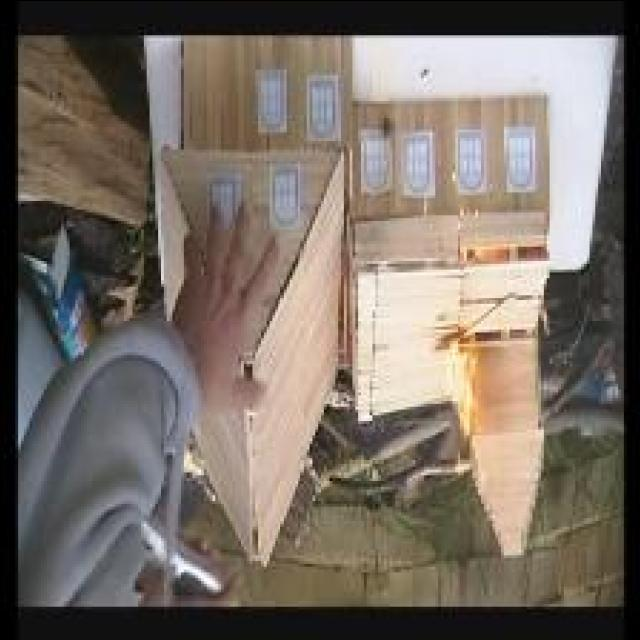Fire: (448, 352, 476, 438)
